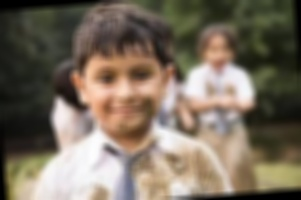earth: (147, 167, 172, 199), (183, 151, 208, 175), (136, 156, 152, 173), (92, 186, 109, 200)
